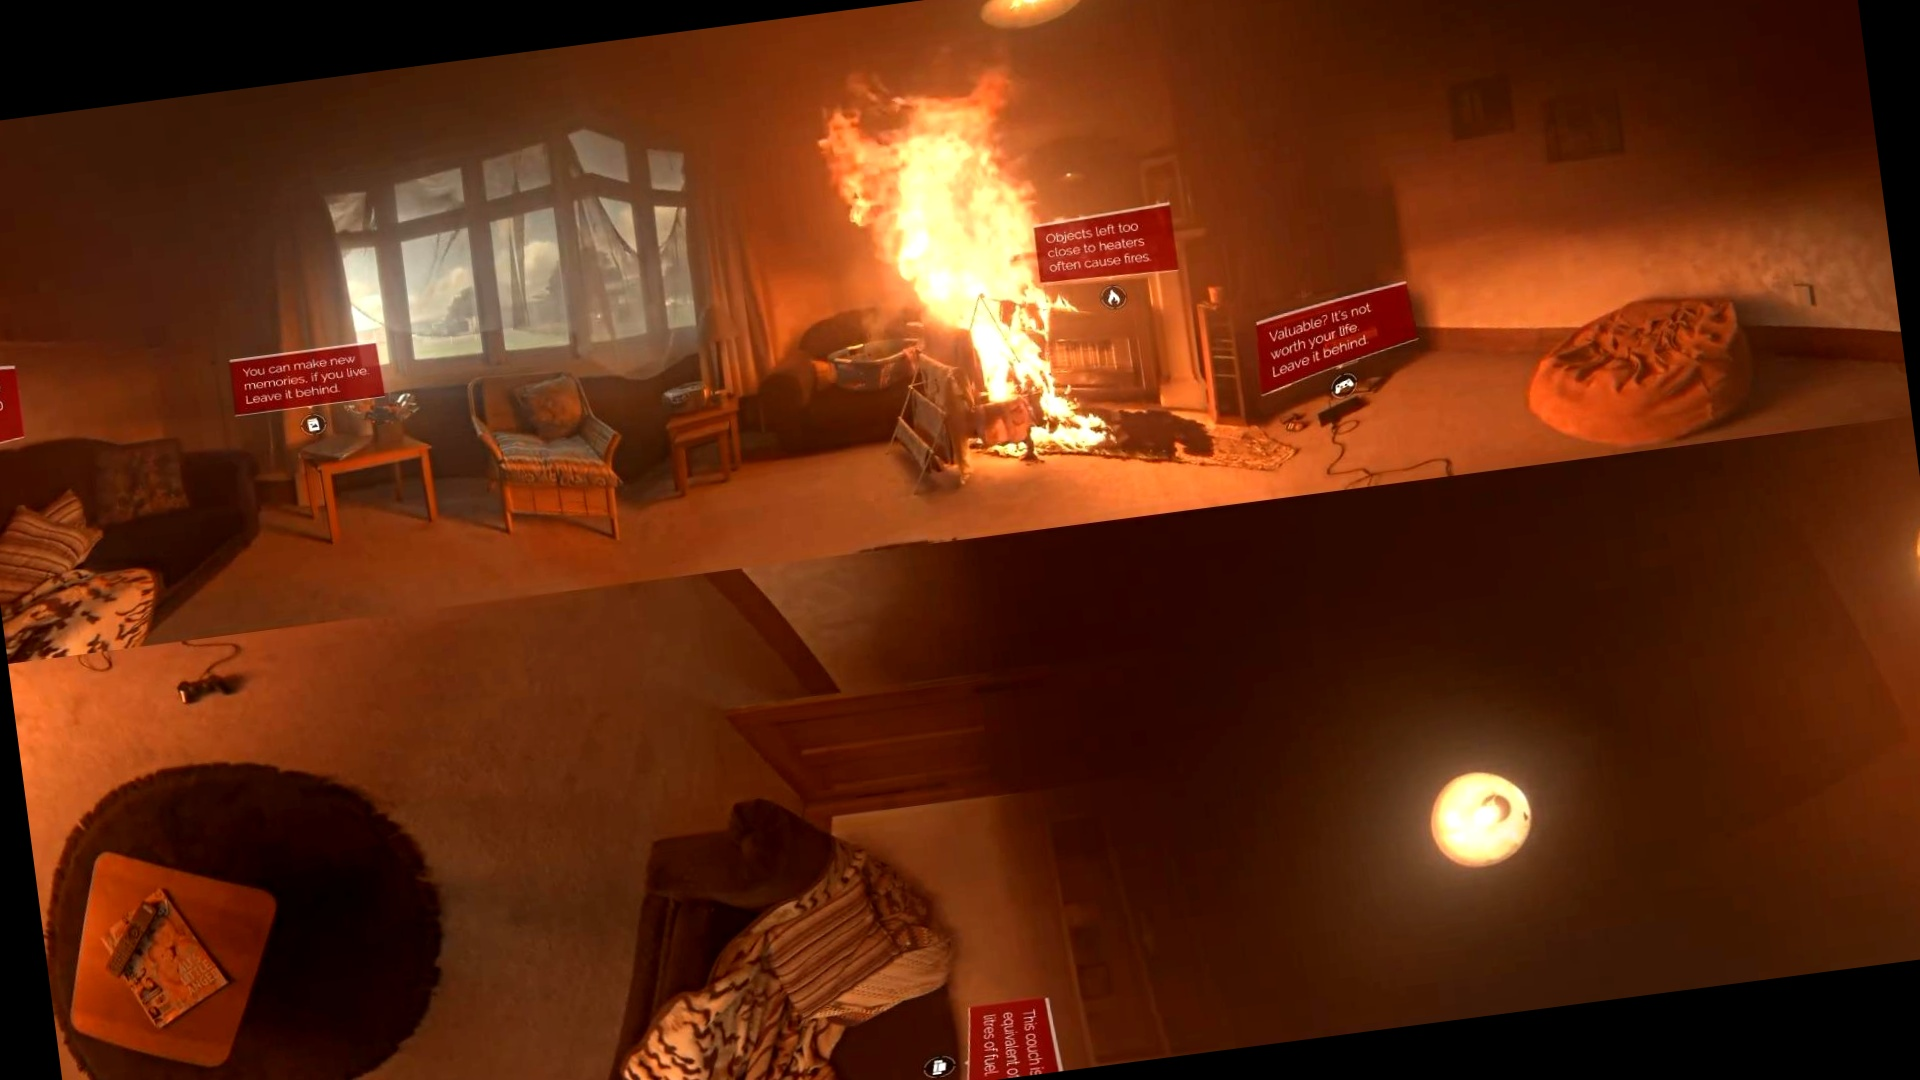fire: (799, 49, 1105, 458)
